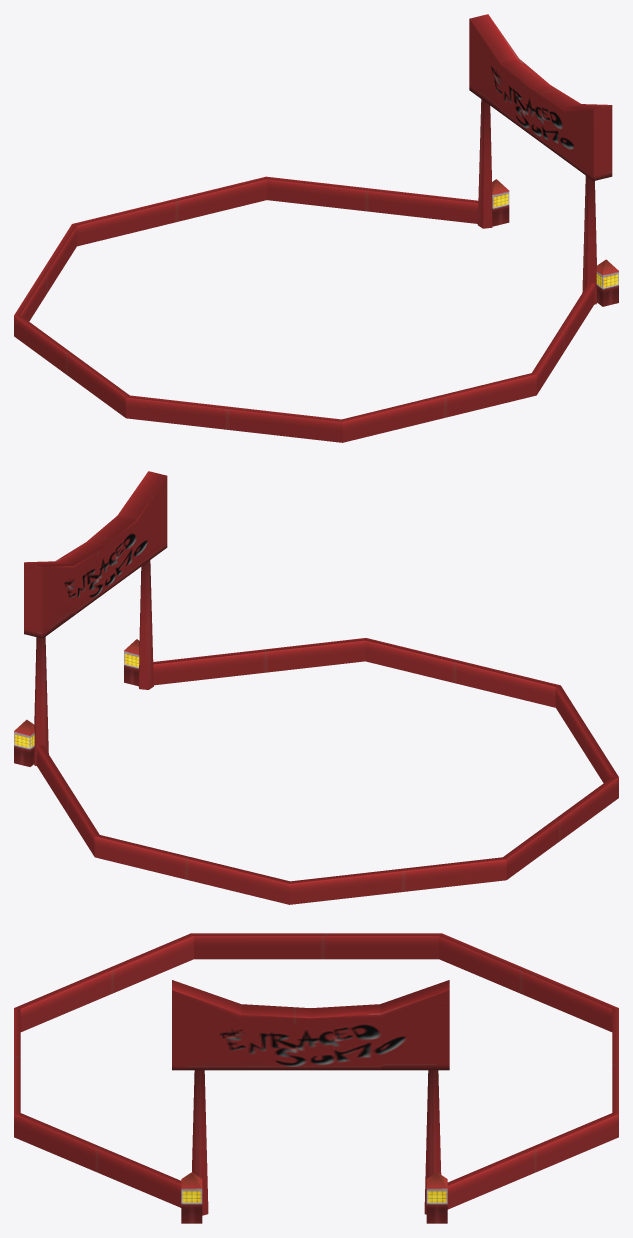
The picture shows the model from 3 angles, top to bottom: view 1: azimuth 30°, elevation 25°; view 2: azimuth 150°, elevation 25°; view 3: azimuth 270°, elevation 25°; orthographic projection. The views are drawn at different scales.
Parts seen in each view (by area): view 1: Tube01; view 2: Tube01; view 3: Tube01.
Part boxes in pixels (<box>): Tube01: <box>14,14,618,442</box>; Tube01: <box>14,471,618,904</box>; Tube01: <box>14,933,618,1223</box>.
Size of the model in its own units: 1978 by 788 by 1897.
1 material, 1 textured.
